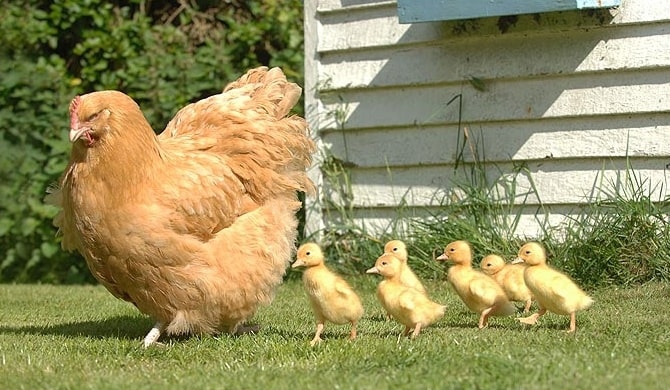ayam: (44, 58, 290, 337)
bebek: (433, 231, 600, 331), (360, 227, 443, 340), (290, 228, 368, 348)
